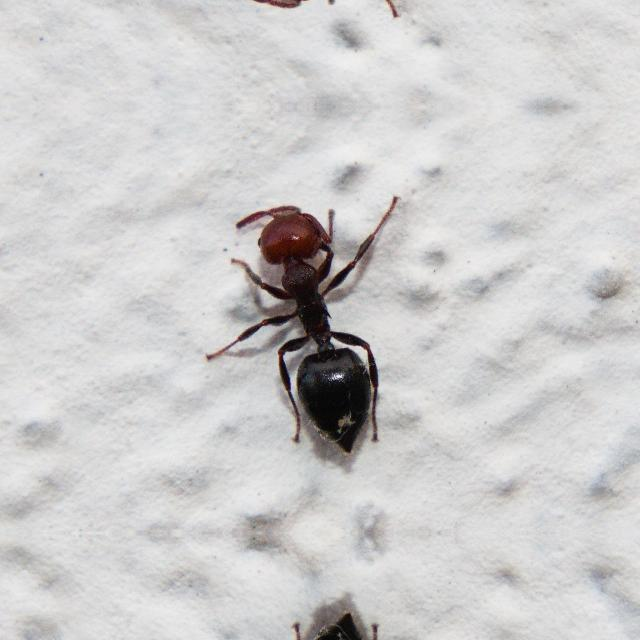Crematogaster: (230, 190, 386, 464)
